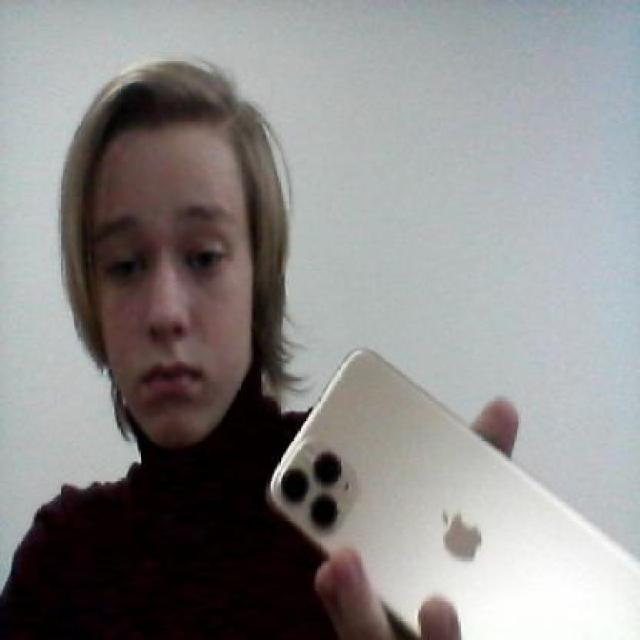mobile-phone: (263, 335, 640, 640)
